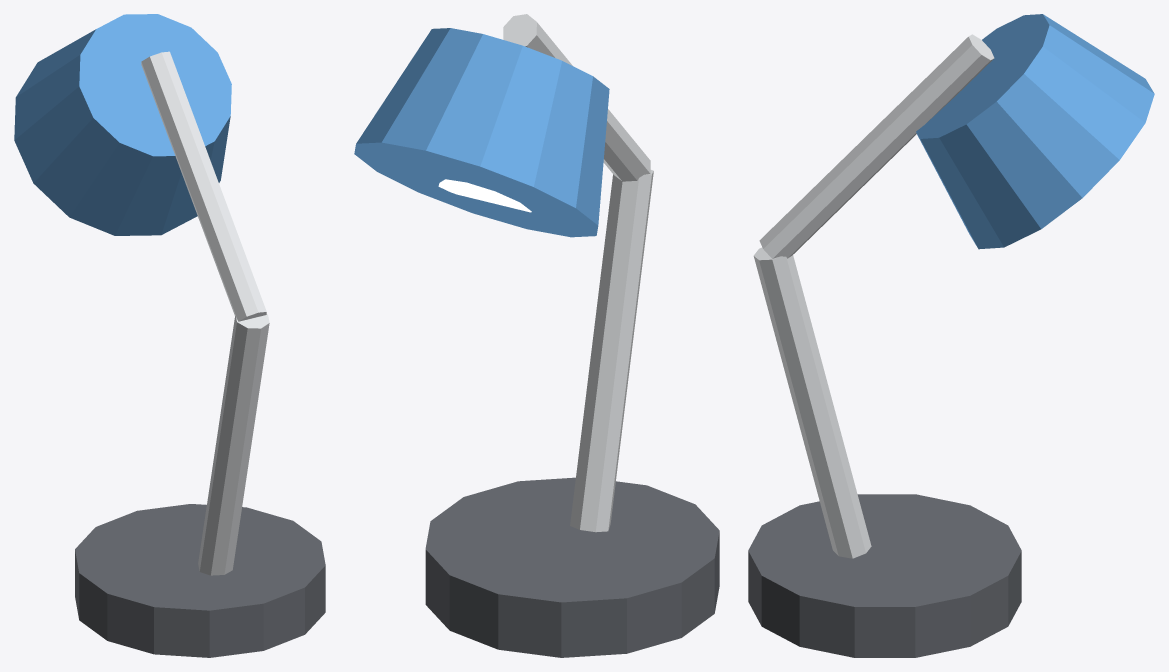
Rendered from Prop_DeskLamp.glb.
The picture shows the model from 3 angles, left to right: view 1: azimuth 30°, elevation 25°; view 2: azimuth 150°, elevation 25°; view 3: azimuth 270°, elevation 25°; orthographic projection. The views are drawn at different scales.
Visible parts, largest first — view 1: Shade, Base, Arm1, Arm2; view 2: Base, Shade, Arm1, Arm2, Bulb; view 3: Base, Shade, Arm1, Arm2.
Boxes of the visible parts, left/top/right/bottom form: Shade: left=14, top=14, right=231, bottom=235; Base: left=75, top=504, right=325, bottom=657; Arm1: left=198, top=314, right=269, bottom=575; Arm2: left=141, top=51, right=266, bottom=321; Base: left=425, top=477, right=719, bottom=657; Shade: left=354, top=28, right=609, bottom=237; Arm1: left=570, top=170, right=653, bottom=532; Arm2: left=503, top=14, right=650, bottom=181; Bulb: left=438, top=179, right=531, bottom=212; Base: left=748, top=494, right=1021, bottom=657; Shade: left=916, top=14, right=1154, bottom=249; Arm1: left=753, top=247, right=871, bottom=558; Arm2: left=759, top=34, right=994, bottom=258.
Bounding box in the file's own units: 0.1657 × 0.3952 × 0.2526.
